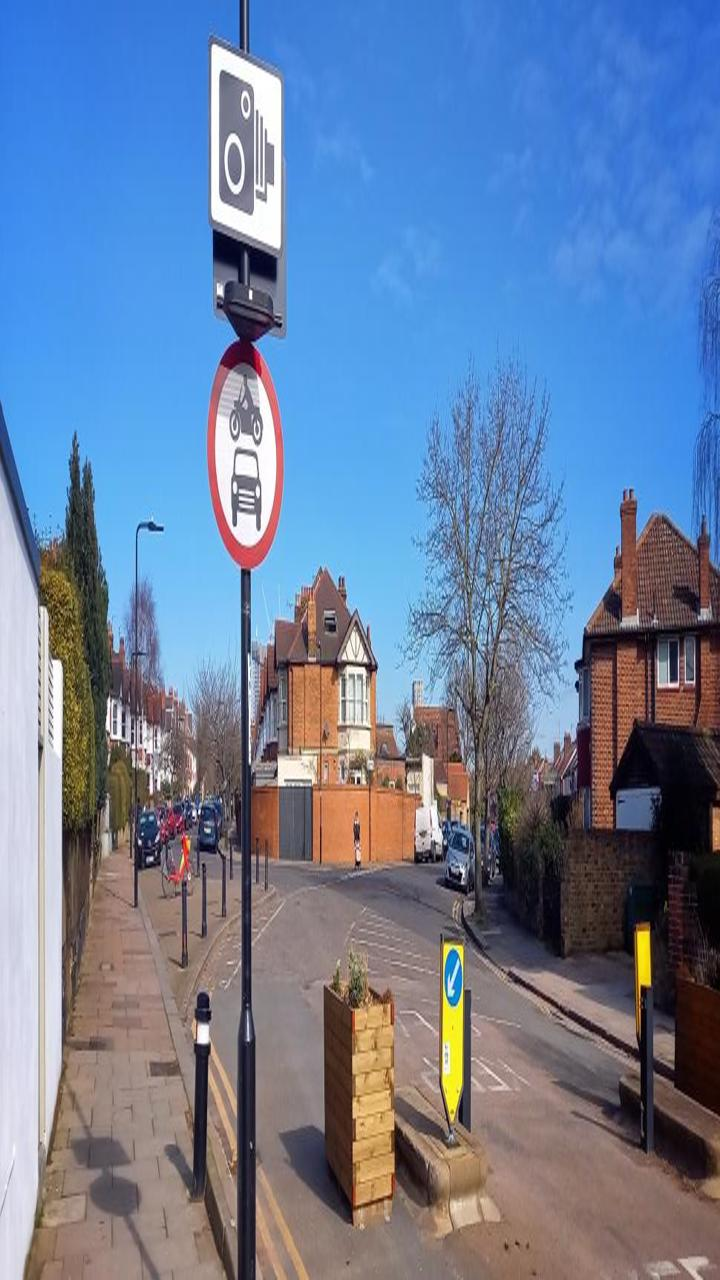Traffic sign: (191, 329, 310, 564), (196, 34, 315, 269), (383, 912, 502, 1147)
vehicle: (442, 824, 487, 896), (413, 798, 458, 870), (191, 788, 236, 860), (130, 800, 175, 872)
